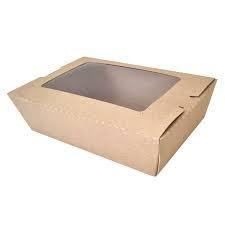box: (6, 57, 217, 178)
